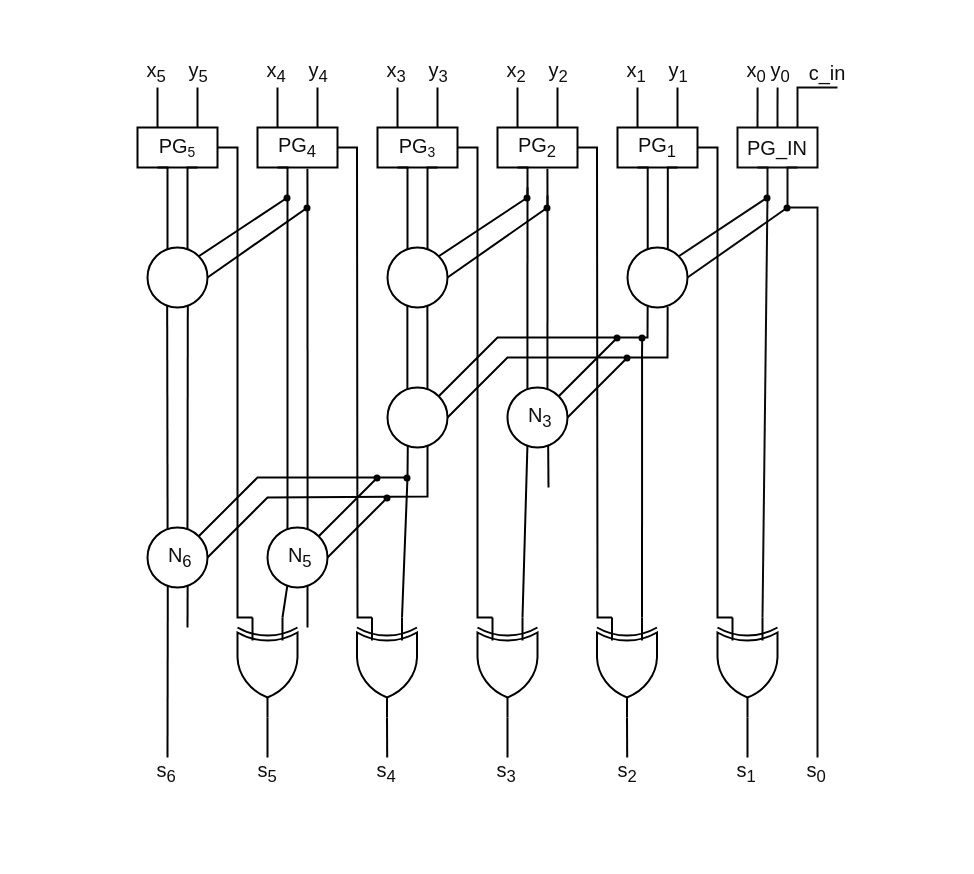
This 974x874 diagram has some shape labels left out. Each missing label, with the centre of its shape:
"N 0" belongs at pixel 657 277.
"N 1" belongs at pixel 417 277.
"N 2" belongs at pixel 177 277.
"N 4" belongs at pixel 417 417.
